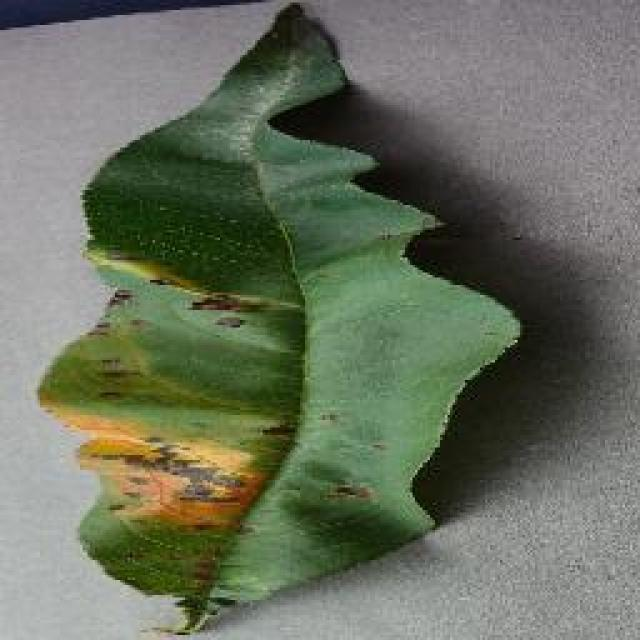Peach_Bacterial_Spot: (57, 225, 388, 557)
